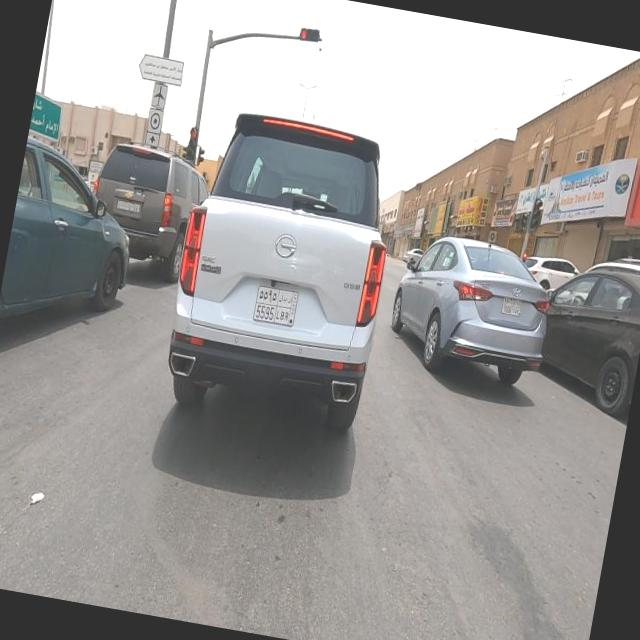debris: (410, 175, 457, 258)
